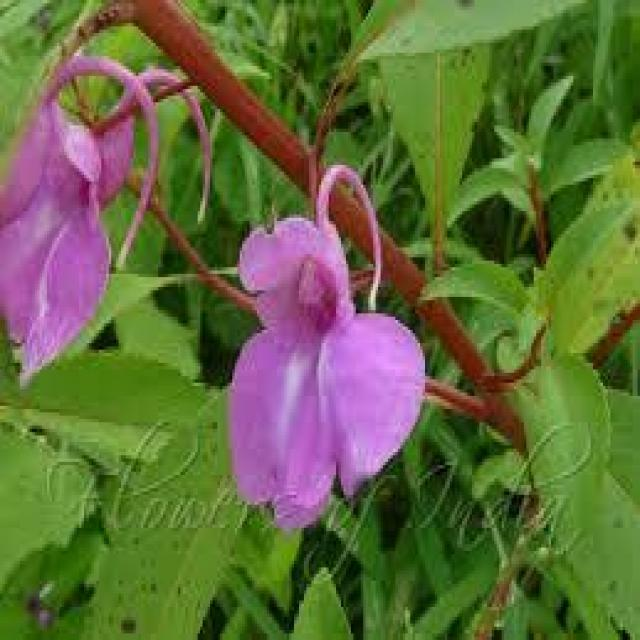organic waste: (219, 178, 441, 538), (7, 48, 160, 384)
